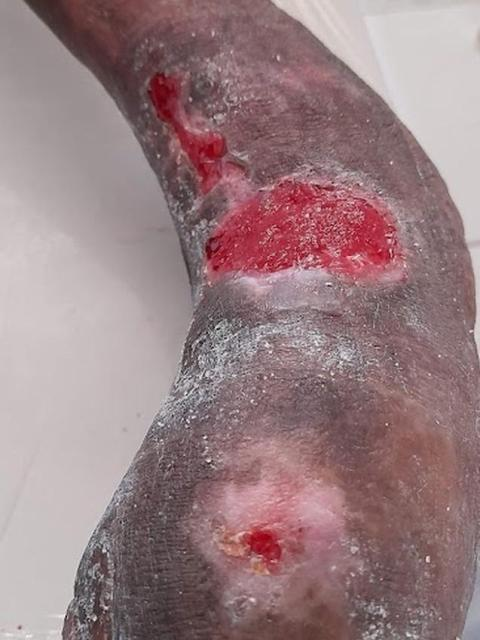wound: (145, 72, 399, 291), (188, 498, 323, 594)
